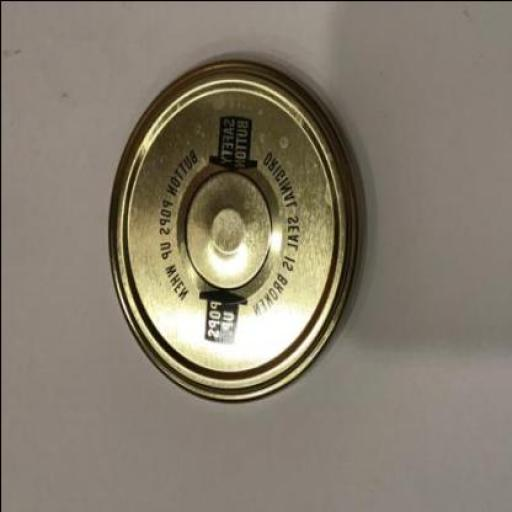metal: (105, 59, 360, 404)
